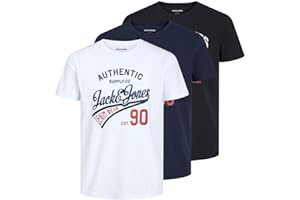design: (90, 65, 151, 129)
